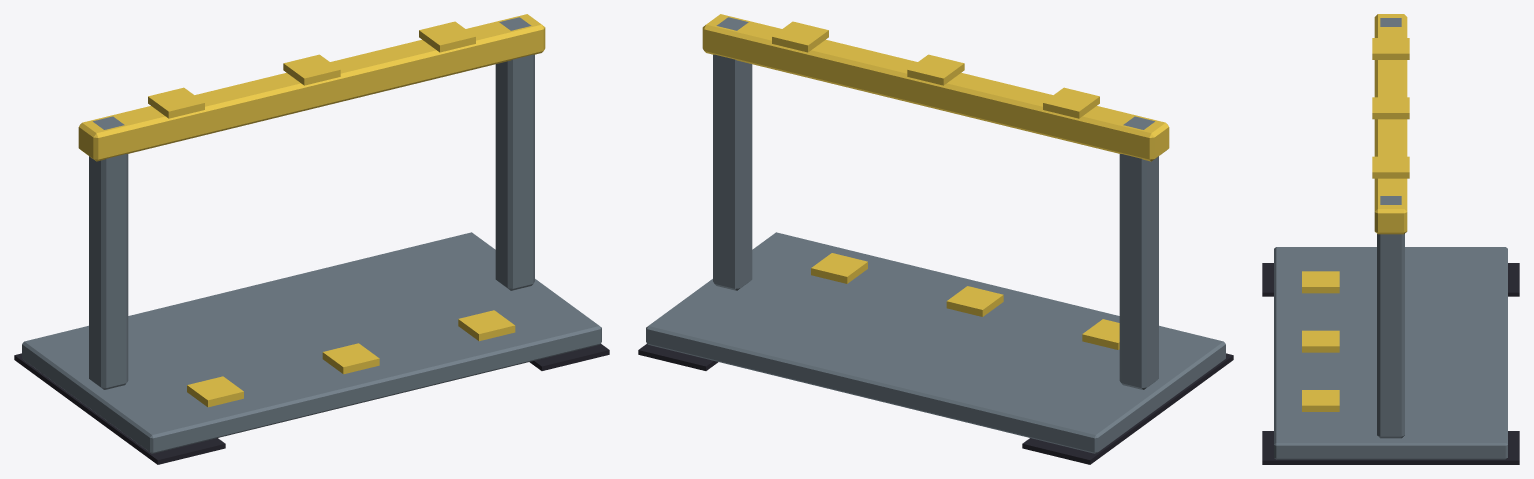
Rendered from Prop_Brk_RepairStand.glb.
3 views of the same model, side by side, from view 1: azimuth 30°, elevation 25°; view 2: azimuth 150°, elevation 25°; view 3: azimuth 270°, elevation 25° (orthographic). The views are drawn at different scales.
Visible parts, largest first — view 1: Prop_Brk_RepairStand; view 2: Prop_Brk_RepairStand; view 3: Prop_Brk_RepairStand.
Boxes of the visible parts, x1,y1,x2,y2 form: Prop_Brk_RepairStand: (14,14,609,464); Prop_Brk_RepairStand: (638,14,1233,464); Prop_Brk_RepairStand: (1262,14,1519,464).
Size of what is drawn, in the model's own units: 2 by 1.23 by 1.1.
